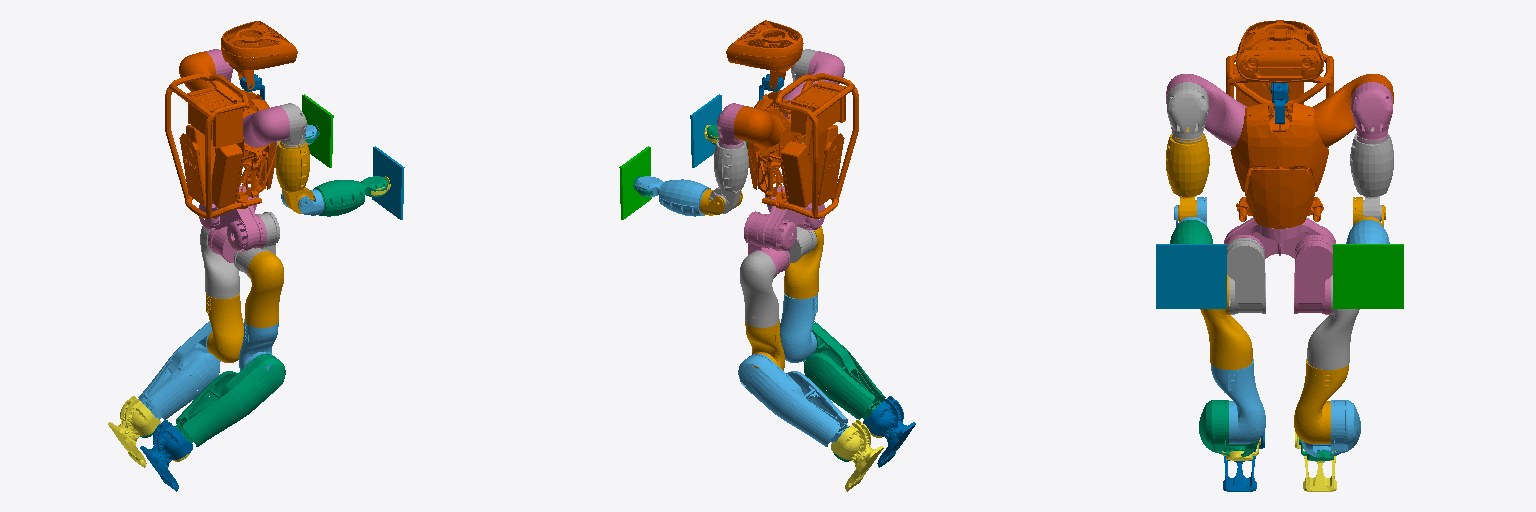
--- What the picture shows (computed from the rendered views, not written in the file) ---
3 views of the same robot in one strip: view 1: azimuth 30°, elevation 25°; view 2: azimuth 150°, elevation 25°; view 3: azimuth 270°, elevation 25° (orthographic).
Model DLR_TORO with 38 links and 37 joints (32 revolute, 3 prismatic, 2 fixed), rooted at ground, posed all joints at 0 but 4 set to mid-range because 0 is outside their limits (j_rl_knee = 1.02, j_ll_knee = 1.02, j_ra_elbow = 1.54, j_la_elbow = 1.54).
Visible links, largest first — view 1: trunk, RL_KOSY_L56, LL_KOSY_L56, neck_link2, RL_KOSY_L23, LL_KOSY_L4, hip_base, ra_link3, ra_link5, RL_foot, LL_foot, LL_KOSY_L23 (+8 smaller); view 2: trunk, LL_KOSY_L56, RL_KOSY_L56, neck_link2, LL_KOSY_L23, RL_KOSY_L4, hip_base, la_link3, la_link5, LL_foot, RL_foot, RL_KOSY_L23 (+8 smaller); view 3: trunk, neck_link2, ra_end_effector, la_end_effector, RL_KOSY_L1, LL_KOSY_L1, RL_KOSY_L4, LL_KOSY_L4, la_link3, ra_link3, RL_KOSY_L23, LL_KOSY_L23 (+12 smaller).
Link boxes in pixels (bbox=[...]): trunk: bbox=[165, 73, 276, 218]; RL_KOSY_L56: bbox=[174, 354, 285, 446]; LL_KOSY_L56: bbox=[138, 321, 220, 419]; neck_link2: bbox=[221, 21, 297, 89]; RL_KOSY_L23: bbox=[245, 251, 283, 327]; LL_KOSY_L4: bbox=[206, 293, 243, 362]; hip_base: bbox=[199, 186, 266, 251]; ra_link3: bbox=[275, 141, 314, 213]; ra_link5: bbox=[313, 176, 387, 216]; RL_foot: bbox=[140, 419, 192, 491]; LL_foot: bbox=[108, 396, 160, 467]; LL_KOSY_L23: bbox=[200, 226, 239, 298]; trunk: bbox=[747, 73, 858, 218]; LL_KOSY_L56: bbox=[738, 354, 849, 446]; RL_KOSY_L56: bbox=[803, 321, 885, 419]; neck_link2: bbox=[726, 20, 803, 89]; LL_KOSY_L23: bbox=[740, 251, 778, 327]; RL_KOSY_L4: bbox=[780, 293, 817, 362]; hip_base: bbox=[757, 186, 824, 250]; la_link3: bbox=[709, 141, 748, 213]; la_link5: bbox=[636, 176, 710, 216]; LL_foot: bbox=[831, 419, 883, 491]; RL_foot: bbox=[863, 396, 915, 467]; RL_KOSY_L23: bbox=[784, 226, 823, 298]; trunk: bbox=[1226, 53, 1333, 228]; neck_link2: bbox=[1236, 20, 1323, 92]; ra_end_effector: bbox=[1156, 244, 1226, 308]; la_end_effector: bbox=[1333, 244, 1403, 308]; RL_KOSY_L1: bbox=[1227, 238, 1265, 314]; LL_KOSY_L1: bbox=[1294, 238, 1332, 314]; RL_KOSY_L4: bbox=[1211, 359, 1265, 443]; LL_KOSY_L4: bbox=[1294, 359, 1348, 443]; la_link3: bbox=[1350, 128, 1393, 221]; ra_link3: bbox=[1166, 128, 1209, 221]; RL_KOSY_L23: bbox=[1200, 275, 1252, 369]; LL_KOSY_L23: bbox=[1307, 275, 1359, 369].
Size in the robot's own frame: 0.9072 by 0.6951 by 1.61 metres.
30 mesh visuals loaded from 23 distinct referenced files (23 OBJ).

URDF robot description (DLR_TORO):
<?xml version="1.0"?>
<robot name="DLR_TORO">

    <link name="ground">
    <inertial>
        <origin xyz="0 0 0" rpy="0 0 0" />
        <mass value="1e-9" />
        <inertia ixx="1e-9" iyy="1e-9" izz="1e-9" ixy="0" ixz="0" iyz="0" />
    </inertial>
    </link>
    
<!-- !!!!!!!!!!!!!!!!!!!!!!!!!!!!!!!!!!!!!!!!!!!!! -->
<!-- !!!!!!!!!!!!!!!!!!!!!!!!!!!!!!!!!!!!!!!!!!!!! -->
<!-- !!!!!!!!!!!!!!!!!!!!!!!!!!!!!!!!!!!!!!!!!!!!! -->
<!-- !!!!!!!!!!!!!!!!!!!!!!!!!!!!!!!!!!!!!!!!!!!!! -->
<!-- !!!!!!!!!!!!!!!!!!!!!!!!!!!!!!!!!!!!!!!!!!!!! -->
<!-- !!!!!! virtual links plus hip !!!!!!!!!!!!!!! -->
<!-- !!!!!!!!!!!!!!!!!!!!!!!!!!!!!!!!!!!!!!!!!!!!! -->
<!-- !!!!!!!!!!!!!!!!!!!!!!!!!!!!!!!!!!!!!!!!!!!!! -->
<!-- !!!!!!!!!!!!!!!!!!!!!!!!!!!!!!!!!!!!!!!!!!!!! -->
<!-- !!!!!!!!!!!!!!!!!!!!!!!!!!!!!!!!!!!!!!!!!!!!! -->
<!-- !!!!!!!!!!!!!!!!!!!!!!!!!!!!!!!!!!!!!!!!!!!!! -->

    <link name="floating_virtual1">
        <inertial>
            <origin xyz="0 0 0" rpy="0 0 0" />
            <mass value="1e-9" />
            <inertia ixx="0" iyy="0" izz="0" ixy="0" ixz="0" iyz="0" />
        </inertial>
    </link>
    <link name="floating_virtual2">
        <inertial>
            <origin xyz="0 0 0" rpy="0 0 0" />
            <mass value="1e-9" />
            <inertia ixx="0" iyy="0" izz="0" ixy="0" ixz="0" iyz="0" />
        </inertial>
    </link>
    <link name="floating_virtual3">
        <inertial>
            <origin xyz="0 0 0" rpy="0 0 0" />
            <mass value="1e-9" />
            <inertia ixx="0" iyy="0" izz="0" ixy="0" ixz="0" iyz="0" />
        </inertial>
    </link>
    <link name="floating_virtual4">
        <inertial>
            <origin xyz="0 0 0" rpy="0 0 0" />
            <mass value="1e-9" />
            <inertia ixx="0" iyy="0" izz="0" ixy="0" ixz="0" iyz="0" />
        </inertial>
    </link>
    <link name="floating_virtual5">
        <inertial>
            <origin xyz="0 0 0" rpy="0 0 0" />
            <mass value="1e-9" />
            <inertia ixx="0" iyy="0" izz="0" ixy="0" ixz="0" iyz="0" />
        </inertial>
    </link>



    <link name="hip_base">
        <inertial>
			<origin xyz="-0.0253800000 -0.0003500000 -0.1077200000" rpy="0 0 0" />
			<mass value="5.6174600000" />
			<inertia  ixx="0.0566741600" iyy="0.0141009900" izz="0.0519184600" ixy="-0.0000604001" ixz="-0.0010933370" iyz="-0.0000343105" />
		</inertial>
        <visual>
            <geometry>
                <mesh filename="../../../model/toro/meshes/obj/upper_hip.stl.obj"/>
            </geometry>
        </visual>
    </link>


    <joint name="floating_base_p1" type="prismatic">
        <parent link="ground"/>
        <child link="floating_virtual1"/>
        <!-- <origin xyz="0.000000 0.000000 1.089000" rpy="0.000000 0.000000 0.000000" /> -->
        <origin xyz="0.000000 0.000000 2.089000" rpy="0.000000 0.000000 0.000000" />
        <axis xyz="1 0 0"/>
        <calibration rising="0.0" />
        <limit lower="-500.00" upper="500.00" effort="4000" velocity="1000" />
    </joint>
    <joint name="floating_base_p2" type="prismatic">
        <parent link="floating_virtual1"/>
        <child link="floating_virtual2"/>
        <origin xyz="0.000000 0.000000 0.00000" rpy="0.000000 0.000000 0.000000" />
        <axis xyz="0 1 0"/>
        <calibration rising="0.0" />
        <limit lower="-500.00" upper="500.00" effort="4000" velocity="1000" />
    </joint>
    <joint name="floating_base_p3" type="prismatic">
        <parent link="floating_virtual2"/>
        <child link="floating_virtual3"/>
        <origin xyz="0.000000 0.000000 0.00000" rpy="0.000000 0.000000 0.000000" />
        <axis xyz="0 0 1"/>
        <calibration rising="0" />
        <limit lower="-500.00" upper="500.00" effort="4000" velocity="1000" />
    </joint>
    <joint name="floating_base_r1" type="revolute">
        <parent link="floating_virtual3"/>
        <child link="floating_virtual4"/>
        <origin xyz="0.000000 0.000000 0.00000" rpy="0.000000 0.000000 0.000000" />
        <axis xyz="1 0 0"/>
        <calibration falling="0.0" />
        <limit lower="-500.00" upper="500.00" effort="4000" velocity="1000" />
    </joint>
    <joint name="floating_base_r2" type="revolute">
        <parent link="floating_virtual4"/>
        <child link="floating_virtual5"/>
        <origin xyz="0.000000 0.000000 0.00000" rpy="0.000000 0.000000 0.000000" />
        <axis xyz="0 0 1"/>
        <calibration falling="0.0" />
        <limit lower="-500.00" upper="500.00" effort="4000" velocity="1000" />
    </joint>
    <joint name="floating_base_r3" type="revolute">
        <parent link="floating_virtual5"/>
        <child link="hip_base"/>
        <origin xyz="0.000000 0.000000 0.00000" rpy="0.000000 0.000000 0.000000" />
        <axis xyz="0 1 0"/>
        <calibration falling="0.0" />
        <limit lower="-500.00" upper="500.00" effort="4000" velocity="1000" />
    </joint>


<!-- !!!!!!!!!!!!!!!!!!!!!!!!!!!!!!!!!!!!!!!!!!!!! -->
<!-- !!!!!!!!!!!!!!!!!!!!!!!!!!!!!!!!!!!!!!!!!!!!! -->
<!-- !!!!!!!!!!!!!!!!!!!!!!!!!!!!!!!!!!!!!!!!!!!!! -->
<!-- !!!!!!!!!!!!!!!!!!!!!!!!!!!!!!!!!!!!!!!!!!!!! -->
<!-- !!!!!!!!!!!!!!!!!!!!!!!!!!!!!!!!!!!!!!!!!!!!! -->
<!-- !!!!!!!!!!!!!!  legs - right  !!!!!!!!!!!!!!! -->
<!-- !!!!!!!!!!!!!!!!!!!!!!!!!!!!!!!!!!!!!!!!!!!!! -->
<!-- !!!!!!!!!!!!!!!!!!!!!!!!!!!!!!!!!!!!!!!!!!!!! -->
<!-- !!!!!!!!!!!!!!!!!!!!!!!!!!!!!!!!!!!!!!!!!!!!! -->
<!-- !!!!!!!!!!!!!!!!!!!!!!!!!!!!!!!!!!!!!!!!!!!!! -->
<!-- !!!!!!!!!!!!!!!!!!!!!!!!!!!!!!!!!!!!!!!!!!!!! -->


    <link name="RL_KOSY_L1">
        <inertial>
            <origin xyz="0.0140200000 -0.0003900000 -0.0807700000" rpy="0 0 0" />
            <mass value="3.1576128000" />
            <inertia  ixx="0.0132241200" iyy="0.0128226400" izz="0.0055660800" ixy="-0.0002500743" ixz="-0.0022333460" iyz="-0.0004034797" />
        </inertial>
        <visual>
            <origin xyz="0 0 0" rpy="0 0 0" />
            <geometry>
                <mesh filename="../../../model/toro/meshes/obj/right_lower_hip.stl.obj"/>
            </geometry>
        </visual>
    </link>

    <joint name="j_rl_frontal" type="revolute">
        <origin xyz="-0.0000000000 -0.1000000000 -0.1254789680" rpy="0 0 0" />
        <parent link="hip_base"/>
        <child link="RL_KOSY_L1"/> 
        <limit effort="176" velocity="1.9199" lower="-1.5708" upper="0.7854" />
        <calibration falling="-0.0" />
        <axis xyz="1 0 0"/>   
    </joint>

    <link name="RL_KOSY_L23">
        <inertial>
            <origin xyz="-0.0004400000 -0.0134800000 -0.1181100000" rpy="0 0 0" />
            <mass value="2.6274499000" />
            <inertia  ixx="0.0186767700" iyy="0.0182876800" izz="0.0041391160" ixy="0.0000149158" ixz="-0.0000216283" iyz="0.0029088950" />
        </inertial>
        <visual>
        <origin  xyz="0 0 0" rpy="-1.5708 0 3.1416 "/>
            <geometry>
                <mesh filename="../../../model/toro/meshes/obj/kuka-link2.stl.obj"/>
            </geometry>
        </visual>
    </link>

    <joint name="j_rl_sagittal" type="revolute">
        <origin xyz="-0.0000000000 -0.0350000000 -0.1200000000" rpy="0 0 0" />
        <parent link="RL_KOSY_L1"/>
        <child link="RL_KOSY_L23"/> 
        <limit lower="-2.0071" upper="1.5708" effort="100" velocity="2.7402" />
        <calibration falling="-35.0" />
        <axis xyz="0 1 0"/>    
    </joint>

    <link name="RL_KOSY_L4">
        <inertial>
            <origin xyz="-0.0001800000 0.0197800000 0.0475700000" rpy="0 0 0" />
            <mass value="2.6220074000" />
            <inertia  ixx="0.0181853400" iyy="0.0177957500" izz="0.0046458290" ixy="0.0000220452" ixz="-0.0000193978" iyz="0.0018474590" />
        </inertial>
        <visual>
            <origin  xyz="0 0 -0.399900088" rpy="3.1416 0 0"/>
            <geometry>
                <mesh filename="../../../model/toro/meshes/obj/kuka-link3.stl.obj"/>
            </geometry>
        </visual>
    </link>

    <joint name="j_rl_self_rotation" type="revolute">
        <parent link="RL_KOSY_L23"/>
        <child link="RL_KOSY_L4"/> 
        <limit lower="-2.0944" upper="2.0944" effort="100" velocity="2.7402" />
        <calibration falling="0.0" />
        <axis xyz="0 0 1"/>     
    </joint>


    <link name="RL_KOSY_L56">
        <inertial>
            <origin xyz="-0.0013700000 -0.0074900000 -0.1697900000" rpy="0 0 0" />
            <mass value="5.7433829000" />
            <inertia  ixx="0.0904821100" iyy="0.0891927700" izz="0.0139187300" ixy="0.0002627257" ixz="0.0006447136" iyz="0.0098359460" />
        </inertial>
        <visual>
            <geometry>
                <mesh filename="../../../model/toro/meshes/obj/right_calf.stl.obj"/>
            </geometry>
        </visual>
    </link>

    <joint name="j_rl_knee" type="revolute">
        <origin xyz="0.0000000000 0.0000000000 -0.3999000880" rpy="0 0 0" />
        <parent link="RL_KOSY_L4"/>
        <child link="RL_KOSY_L56"/> 
        <limit lower="0.2" upper="1.8326" effort="165" velocity="3.0718" />
        <calibration falling="45.0" />
         <axis xyz="0 1 0"/>
    </joint>

    <link name="RL_ankle">
        <inertial>
            <origin xyz="0.0142800000 0.0001000000 -0.0000600000" rpy="0 0 0" />
            <mass value="0.3906700000" />
            <inertia  ixx="0.0005022947" iyy="0.0004818338" izz="0.0007966313" ixy="-0.0000013421" ixz="0.0000010653" iyz="0.0000001977" />
        </inertial>
        <visual>
            <geometry>
                <mesh filename="../../../model/toro/meshes/obj/ankle.stl.obj"/>
            </geometry>
        </visual>
    </link>

    <joint name="j_rl_ankle_frontal" type="revolute">
        <origin xyz="-0.0000000000 0.0220500000 -0.4000000000" rpy="0 0 0" />
        <parent link="RL_KOSY_L56"/>
        <child link="RL_ankle"/> 
        <limit lower="-0.3403" upper="0.3403" effort="50" velocity="2.0944" />
        <calibration falling="0.0" />
        <axis xyz="1 0 0"/> 
    </joint>


    <link name="RL_foot">
         <tcp number="0"/>
        <inertial>
            <origin xyz="0.02 0.0 -0.045" rpy="0 0 0" />
            <mass value="1.4241951000" />
            <inertia  ixx="0.0039254437" iyy="0.0056384521" izz="0.0049198016" ixy="-0.0000052044" ixz="0.0014223826" iyz="0.0000040064" />
        </inertial>     
        <visual>
            <origin xyz="0.04 0 -0.08" />
            <geometry>
                <mesh filename="../../../model/toro/meshes/obj/foot.stl.obj"/>
            </geometry>
        </visual>
    </link>

    <joint name="j_rl_ankle_sagittal" type="revolute">
        <origin xyz="-0.0000000000 0.0000000000 -0.0200000" rpy="0 0 0" />
        <parent link="RL_ankle"/>
        <child link="RL_foot"/> 
        <limit lower="-0.7804" upper="0.7804" effort="165" velocity="3.0718" />
        <calibration falling="-20.0" />
        <axis xyz="0 1 0"/>
    </joint>

    <link name="RL_end_effector">
         <tcp number="0"/>
        <inertial>
            <origin xyz="0 0 0" rpy="0 0 0" />
            <mass value="0.001" />
            <inertia  ixx="0.001" iyy="0.001" izz="0.001" ixy="-0.0" ixz="0.0" iyz="0.0" />
        </inertial>     
<!--         <visual>
            <geometry>
                <box size="0.2 0.1 0.02" />
            </geometry>
            <material name="material_ee">
                <color rgba="0.0 0.8 0.0 1.0" />
            </material>
        </visual> -->
        <collision>
            <geometry>
                <box size="0.2 0.1 0.02" />
                <!-- <box size="0.3 0.15 0.02" /> -->
            </geometry>
        </collision>
    </link>

    <joint name="j_rfoot_fixed" type="fixed">
        <origin xyz="0.04 0 -0.08" rpy="0 0 0" />
        <parent link="RL_foot"/>
        <child link="RL_end_effector"/> 
    </joint>

<!-- !!!!!!!!!!!!!!!!!!!!!!!!!!!!!!!!!!!!!!!!!!!!! -->
<!-- !!!!!!!!!!!!!!!!!!!!!!!!!!!!!!!!!!!!!!!!!!!!! -->
<!-- !!!!!!!!!!!!!!!!!!!!!!!!!!!!!!!!!!!!!!!!!!!!! -->
<!-- !!!!!!!!!!!!!!!!!!!!!!!!!!!!!!!!!!!!!!!!!!!!! -->
<!-- !!!!!!!!!!!!!!!!!!!!!!!!!!!!!!!!!!!!!!!!!!!!! -->
<!-- !!!!!!!!!!!!!!  legs - left   !!!!!!!!!!!!!!! -->
<!-- !!!!!!!!!!!!!!!!!!!!!!!!!!!!!!!!!!!!!!!!!!!!! -->
<!-- !!!!!!!!!!!!!!!!!!!!!!!!!!!!!!!!!!!!!!!!!!!!! -->
<!-- !!!!!!!!!!!!!!!!!!!!!!!!!!!!!!!!!!!!!!!!!!!!! -->
<!-- !!!!!!!!!!!!!!!!!!!!!!!!!!!!!!!!!!!!!!!!!!!!! -->
<!-- !!!!!!!!!!!!!!!!!!!!!!!!!!!!!!!!!!!!!!!!!!!!! -->


    <link name="LL_KOSY_L1">
        <inertial>
            <origin xyz="0.0140200000 0.0004000000 -0.0803900000" rpy="0 0 0" />
            <mass value="3.1576128000" />
            <inertia  ixx="0.0131418500" iyy="0.0127404000" izz="0.0055660580" ixy="0.0002490634" ixz="-0.0022168610" iyz="0.0003874600" />
        </inertial>
        <visual>
            <geometry>
                <mesh filename="../../../model/toro/meshes/obj/left_lower_hip.stl.obj"/>
            </geometry>
        </visual>
      </link>

    <joint name="j_ll_frontal" type="revolute">
        <origin xyz="0.0000000000 0.1000000000 -0.1254789680" rpy="0 0 0" />
        <parent link="hip_base"/>
        <child link="LL_KOSY_L1"/> 
        <limit lower="-0.7804" upper="1.5708" effort="176" velocity="1.9199" />
        <calibration falling="0.0" />
        <axis xyz= " 1 0 0 "/>
    </joint>

    <link name="LL_KOSY_L23">
        <inertial>
            <origin xyz="0.0004400000 0.0134800000 -0.1181100000" rpy="0 0 0" />
            <mass value="2.6274499000" />
            <inertia  ixx="0.0186767700" iyy="0.0182876800" izz="0.0041391160" ixy="0.0000149158" ixz="0.0000216283" iyz="-0.0029088950" />
        </inertial>
         <visual>
            <origin xyz="0 0 0" rpy= "-1.5708 0 0"/>
            <geometry>
                <mesh filename="../../../model/toro/meshes/obj/kuka-link2.stl.obj"/>
            </geometry>
        </visual>
      </link>

    <joint name="j_ll_sagittal" type="revolute">
        <origin xyz="0.0000000000 0.0350000000 -0.1200000000" rpy="0 0 0" />
        <parent link="LL_KOSY_L1"/>
        <child link="LL_KOSY_L23"/> 
        <limit lower="-2.0071" upper="1.5708" effort="100" velocity="2.7402" />
        <calibration falling="-35.0" />
        <axis xyz="0 1 0"/>
    </joint>




    <link name="LL_KOSY_L4">
        <inertial>
            <origin xyz="0.0001800000 -0.0197800000 0.0475700000" rpy="0 0 0" />
            <mass value="2.6220074000" />
            <inertia  ixx="0.0181853400" iyy="0.0177957500" izz="0.0046458290" ixy="0.0000220452" ixz="0.0000193978" iyz="-0.0018474590" />
        </inertial>       
         <visual>
            <origin  xyz="0 0 -0.399900088" rpy="0 3.1416 0"/>
            <geometry>
                <mesh filename="../../../model/toro/meshes/obj/kuka-link3.stl.obj"/>
            </geometry>
        </visual>
      </link>

    <joint name="j_ll_self_rotation" type="revolute">
        <parent link="LL_KOSY_L23"/>
        <child link="LL_KOSY_L4"/> 
        <limit lower="-2.0944" upper="2.0944" effort="100" velocity="2.7402" />
        <calibration falling="0.0" />
        <axis xyz="0 0 1"/>
    </joint>




    <link name="LL_KOSY_L56">
        <inertial>
            <origin xyz="-0.0017200000 0.0075200000 -0.1697300000" rpy="0 0 0" />
            <mass value="5.7433829000" />
            <inertia  ixx="0.0904466300" iyy="0.0891587900" izz="0.0139048900" ixy="-0.0001614719" ixz="0.0007332664" iyz="-0.0098185250" />
        </inertial>
         <visual>
            <geometry>
                <mesh filename="../../../model/toro/meshes/obj/left_calf.stl.obj"/>
            </geometry>
        </visual>
    </link>

    <joint name="j_ll_knee" type="revolute">
        <origin xyz="0.0000000000 0.0000000000 -0.3999000880" rpy="0 0 0" />
        <parent link="LL_KOSY_L4"/>
        <child link="LL_KOSY_L56"/> 
        <limit lower="0.2" upper="1.8326" effort="165" velocity="3.0718" />
        <calibration falling="45.0" />
        <axis xyz="0 1 0"/>
    </joint>


    <link name="LL_ankle">
        <inertial>
            <origin xyz="0.0142800000 0.0001000000 -0.0000600000" rpy="0 0 0" />
            <mass value="0.3906700000" />
            <inertia  ixx="0.0005022947" iyy="0.0004818338" izz="0.0007966313" ixy="-0.0000013421" ixz="0.0000010653" iyz="0.0000001977" />
        </inertial>
         <visual>
            <geometry>
                <mesh filename="../../../model/toro/meshes/obj/ankle.stl.obj"/>
            </geometry>
        </visual>
    </link>

    <joint name="j_ll_ankle_frontal" type="revolute">
        <origin xyz="0.0000000000 -0.0220500000 -0.4000000000" rpy="0 0 0" />
        <parent link="LL_KOSY_L56"/>
        <child link="LL_ankle"/> 
        <limit lower="-0.3403" upper="0.3403" effort="50" velocity="2.0944" />
        <calibration falling="0.0" />
        <axis xyz="1 0 0"/>
    </joint>

    <link name="LL_foot">
         <tcp number="1"/>
        <tcp number="1"/> 
        <inertial>
            <origin xyz="0.02 0.0 -0.045" rpy="0 0 0" />
            <mass value="1.4241951000" />
            <inertia  ixx="0.0039235265" iyy="0.0056313673" izz="0.0049161089" ixy="0.0000049045" ixz="0.0014182543" iyz="-0.0000046132" />
        </inertial>
        <visual>
            <origin xyz="0.04 0 -0.08" />
            <geometry>
                <mesh filename="../../../model/toro/meshes/obj/foot.stl.obj"/>
            </geometry>
        </visual>
    </link>

    <joint name="j_ll_ankle_sagittal" type="revolute">
        <origin xyz="-0.0000000000 0.0000000000 -0.0200000" rpy="0 0 0" />
        <parent link="LL_ankle"/>
        <child link="LL_foot"/> 
        <limit lower="-0.7854" upper="0.7854" effort="165" velocity="3.0718" />
        <calibration falling="-20.0" />
        <axis xyz="0 1 0"/>
    </joint>

    <link name="LL_end_effector">
         <tcp number="0"/>
        <inertial>
            <origin xyz="0 0 0" rpy="0 0 0" />
            <mass value="0.001" />
            <inertia  ixx="0.001" iyy="0.001" izz="0.001" ixy="-0.0" ixz="0.0" iyz="0.0" />
        </inertial>     
<!--         <visual>
            <geometry>
                <box size="0.2 0.1 0.02" />
            </geometry>
            <material name="material_ee">
                <color rgba="0.0 0.8 0.0 1.0" />
            </material>
        </visual> -->
        <collision>
            <geometry>
                <box size="0.2 0.1 0.02" />
                <!-- <box size="0.3 0.15 0.02" /> -->
            </geometry>
        </collision>
    </link>

    <joint name="j_lfoot_fixed" type="fixed">
        <origin xyz="0.04 0 -0.08" rpy="0 0 0" />
        <parent link="LL_foot"/>
        <child link="LL_end_effector"/> 
    </joint>

<!-- !!!!!!!!!!!!!!!!!!!!!!!!!!!!!!!!!!!!!!!!!!!!! -->
<!-- !!!!!!!!!!!!!!!!!!!!!!!!!!!!!!!!!!!!!!!!!!!!! -->
<!-- !!!!!!!!!!!!!!!!!!!!!!!!!!!!!!!!!!!!!!!!!!!!! -->
<!-- !!!!!!!!!!!!!!!!!!!!!!!!!!!!!!!!!!!!!!!!!!!!! -->
<!-- !!!!!!!!!!!!!!!!!!!!!!!!!!!!!!!!!!!!!!!!!!!!! -->
<!-- !!!!!!!!!!!!!!!!    Trunk    !!!!!!!!!!!!!!!! -->
<!-- !!!!!!!!!!!!!!!!!!!!!!!!!!!!!!!!!!!!!!!!!!!!! -->
<!-- !!!!!!!!!!!!!!!!!!!!!!!!!!!!!!!!!!!!!!!!!!!!! -->
<!-- !!!!!!!!!!!!!!!!!!!!!!!!!!!!!!!!!!!!!!!!!!!!! -->
<!-- !!!!!!!!!!!!!!!!!!!!!!!!!!!!!!!!!!!!!!!!!!!!! -->
<!-- !!!!!!!!!!!!!!!!!!!!!!!!!!!!!!!!!!!!!!!!!!!!! -->


    <link name="trunk">
        <inertial>
            <origin xyz="-0.0772300000 -0.0064300000 0.1945200000" rpy="0 0 0" />
            <mass value="19.6443820000" />
            <inertia  ixx="0.4140931300" iyy="0.4412850500" izz="0.2319975000" ixy="-0.0090228103" ixz="0.0016661460" iyz="0.0148581080" />
        </inertial>
         <visual>
            <geometry>
                <mesh filename="../../../model/toro/meshes/obj/trunk.stl.obj"/>
            </geometry>
        </visual>
      </link>

    <joint name="j_waist" type="revolute">
        <parent link="hip_base"/>
        <child link="trunk"/> 
        <limit lower="-2.0944" upper="2.0944" effort="100" velocity="2.7402" />
        <calibration falling="0.0" />
        <axis xyz="0 0 1"/> 
    </joint>

      
<!-- !!!!!!!!!!!!!!!!!!!!!!!!!!!!!!!!!!!!!!!!!!!!! -->
<!-- !!!!!!!!!!!!!!!!!!!!!!!!!!!!!!!!!!!!!!!!!!!!! -->
<!-- !!!!!!!!!!!!!!!!!!!!!!!!!!!!!!!!!!!!!!!!!!!!! -->
<!-- !!!!!!!!!!!!!!!!!!!!!!!!!!!!!!!!!!!!!!!!!!!!! -->
<!-- !!!!!!!!!!!!!!!!!!!!!!!!!!!!!!!!!!!!!!!!!!!!! -->
<!-- !!!!!!!!!!!!!   arms - right   !!!!!!!!!!!!!! -->
<!-- !!!!!!!!!!!!!!!!!!!!!!!!!!!!!!!!!!!!!!!!!!!!! -->
<!-- !!!!!!!!!!!!!!!!!!!!!!!!!!!!!!!!!!!!!!!!!!!!! -->
<!-- !!!!!!!!!!!!!!!!!!!!!!!!!!!!!!!!!!!!!!!!!!!!! -->
<!-- !!!!!!!!!!!!!!!!!!!!!!!!!!!!!!!!!!!!!!!!!!!!! -->
<!-- !!!!!!!!!!!!!!!!!!!!!!!!!!!!!!!!!!!!!!!!!!!!! -->

    <link name="ra_link1">
        <inertial>
            <origin xyz="-0.0183100000 -0.0004571088 -0.0550082644" rpy="0 0 0"/>
            <mass value="2.6220074000" />
            <inertia ixx="0.0163447800" iyy="0.0168339022" izz="0.0042262898" ixy="-0.0000450521" ixz="0.0016914376" iyz="0.0000513506" />
        </inertial>
        <visual>
            <origin xyz="0.0000000000 0.0000000000 0.0000000000" rpy="0.0000031811 -0.0000024488  1.5707981634" />
            <geometry>
                <mesh filename="../../../model/toro/meshes/obj/kuka-link1.stl.obj"/>
            </geometry>
        </visual>
      </link>

    <joint name="j_ra_sagittal" type="revolute">
        <origin xyz="0.0000000000 -0.2590563550  0.3552250220" rpy="1.0471975512 0.0000000000 0.0000000000" />
        <parent link="trunk"/>
        <child link="ra_link1"/> 
        <limit lower="-2.0944" upper="2.0944" effort="100" velocity="2.7402" />
        <calibration falling="15.0" />
        <axis xyz="0 0 1"/>
    </joint>



    <link name="ra_link2">
        <inertial>
            <origin xyz="-0.0171459632  0.0157700000 -0.0099223205" rpy="0 0 0"/>
            <mass value="1.0979371000" />
            <inertia ixx="0.0019485690" iyy="0.0032123630" izz="0.0024298790" ixy="-0.0002409816" ixz="-0.0004213554" iyz="-0.0001401085" />
        </inertial>
         <visual>
            <origin xyz="0.0000000000 0.0000000000 0.0000000000" rpy="-1.0471975512  0.0000000000 -1.5707963268" />
            <geometry>
                <mesh filename="../../../model/toro/meshes/obj/va_right_shoulder_front.stl.obj"/>
            </geometry>
        </visual>
      </link>

    <joint name="j_ra_frontal" type="revolute">
        <origin xyz="0.0539500000 0.0000000000 0.0000000000" rpy="0.0000000000 0.0000000000 1.5707963268" />
        <parent link="ra_link1"/>
        <child link="ra_link2"/> 
        <limit lower="-0.2618" upper="3.1416" effort="100" velocity="2.7402" />
        <calibration falling="15.0" />
        <axis xyz="0 1 0"/>
    </joint>

    <link name="ra_link3">
        <inertial>
            <origin xyz="-0.0024100000 -0.0101800000  0.2010000000" rpy="0 0 0"/>
            <mass value="2.3628586000" />
            <inertia ixx="0.0188188000" iyy="0.0185273500" izz="0.0035042020" ixy="-0.0001558288" ixz="0.0007985828" iyz="0.0020103610" />
        </inertial>
        <visual>
            <origin xyz="0.0000000000 0.0000000000 0.0000000000" rpy="-3.1415926536  0.0000000000 -1.5707963268" />
            <geometry>
                <mesh filename="../../../model/toro/meshes/obj/va_right_upper_arm.stl.obj"/>
            </geometry>
        </visual>
      </link>

    <joint name="j_ra_self_rotation" type="revolute">
        <origin xyz="0.0000000000 0.0000000000 0.0000000000" rpy="-3.1415926536 -1.0471975512 -3.1415926536" />
        <parent link="ra_link2"/>
        <child link="ra_link3"/> 
        <limit lower="-1.8326" upper="1.8326" effort="40" velocity="2.0944" />
        <calibration falling="-15.0" />
        <axis xyz="0 0 1"/>
    </joint>


    <link name="ra_link4">
        <inertial>
            <origin xyz="-0.0184900000  0.0167000000  0.0292700000" rpy="0 0 0"/>
            <mass value="0.7247867400" />
            <inertia ixx="0.0013664280" iyy="0.0013830570" izz="0.0010473530" ixy="-0.0001050223" ixz="-0.0001630621" iyz="-0.0003003930" />
        </inertial>
         <visual>
            <origin xyz="0.0000000000 0.0000000000 0.0000000000" rpy="-3.1415926536  0.0000000000 -1.5707963268" />
            <geometry>
                <mesh filename="../../../model/toro/meshes/obj/va_right_lower_elbow.stl.obj"/>
            </geometry>
        </visual>
    </link>

    <joint name="j_ra_elbow" type="revolute">
        <origin xyz="-0.0000000000 -0.0300000000  0.3129000000" rpy="0.0000000000 0.0000000000 0.0000000000" />
        <parent link="ra_link3"/>
        <child link="ra_link4"/> 
        <limit lower="0.5" upper="2.5831" effort="40" velocity="2.0944" />
        <calibration falling="70.0" />
        <axis xyz="1 0 0"/>
    </joint>



    <link name="ra_link5">
        <inertial>
            <origin xyz="0.0005200000  0.0004000000 -0.1168400000" rpy="0 0 0"/>
            <mass value="2.2114157000" />
            <inertia ixx="0.0179711600" iyy="0.0183094100" izz="0.0029926190" ixy="-0.0000199261" ixz="0.0000759583" iyz="0.0006364064" />
        </inertial>
         <visual>
            <origin xyz="0.0000000000 0.0000000000 0.0000000000" rpy="3.1415926536 -0.0000000000  1.5707889804" />
            <geometry>
                <mesh filename="../../../model/toro/meshes/obj/va_right_lower_arm.stl.obj"/>
            </geometry>
        </visual>
        <visual>
            <origin xyz="0.0000000000  0.001000000 -0.06900000" rpy="-3.1415926536  0.0000000000 -1.5707963268" />
            <geometry>
                <mesh filename="../../../model/toro/meshes/obj/wrist_cap.stl.obj"/>
            </geometry>
        </visual>
    </link>

    <joint name="j_ra_wrist_self_rotation" type="revolute">
        <origin xyz="-0.0115000000  0.0300000000  0.3059000000" rpy="0.0000000000 0.0000000000 0.0000000000" />
        <parent link="ra_link4"/>
        <child link="ra_link5"/> 
        <limit lower="-2.5307" upper="2.0595" effort="40" velocity="2.0944" />
        <calibration falling="0.0" />
        <axis xyz="0 0 1"/>
    </joint>

    <link name="ra_link6">
        <tcp number="2"/>        
        <inertial>
            <origin xyz="0.0000334374 -0.0022440200 -0.0512098000" rpy="0 0 0"/>
            <mass value="0.2863747200" />
            <inertia ixx="0.0021686577" iyy="0.0032369857" izz="0.0015915745" ixy="-0.0000000609" ixz="-0.0000001700" iyz="-0.0000011072" />
        </inertial>     
         <visual>
            <origin xyz="0.0000000000  0.0000000000 -0.00000000" rpy="-3.1415926536  0.0000000000 -1.5707963268" />
            <geometry>
                <mesh filename="../../../model/toro/meshes/obj/wrist.stl.obj"/>
            </geometry>
        </visual>
    </link>

    <joint name="j_ra_wrist_frontal" type="revolute">
        <origin xyz="-0.0000000000 -0.0140000000  0.00000000" rpy="0.0000000000 0.0000000000 0.0000000000" />
        <parent link="ra_link5"/>
        <child link="ra_link6"/> 
        <limit lower="-1.8326" upper="1.8326" effort="35" velocity="2.0944" />
        <calibration falling="0.0" />
        <axis xyz="0 1 0"/>
    </joint>

    <link name="ra_end_effector">
        <inertial>
            <origin xyz="0 0 0" rpy="0 0 0"/>
            <mass value="0.1" />
            <inertia ixx="0.001" iyy="0.001" izz="0.001" ixy="-0.0" ixz="-0.0" iyz="-0.0" />
        </inertial>   
           <visual>
            <origin xyz="0 0 0" rpy="0 0 0"/>
            <geometry>
                <box size="0.2 0.2 0.01"/>
            </geometry>
            <material name="material_ee">
                <color rgba="0.0 0.6 0.8 1.0" />
            </material>
        </visual>
        <collision>
            <origin xyz="0 0 0" rpy="0 0 0"/>
            <geometry>
                <box size="0.2 0.2 0.01"/>
                <!-- <box size="0.2 0.2 0.01"/> -->
            </geometry>
        </collision>
    </link>

    <!-- <joint name="j_rhand_fixed" type="fixed">
            <origin xyz="0 0 0.056" rpy="-3.1415926536  0.0000000000 -1.5707963268" />
        <parent link="ra_link6"/>
        <child link="ra_end_effector"/> 
    </joint> -->

    <joint name="j_rhand_revolute" type="revolute">
        <origin xyz="0 0 0.056" rpy="-3.1415926536  0.0000000000 -1.5707963268" />
        <parent link="ra_link6"/>
        <child link="ra_end_effector"/> 
        <limit lower="-1.8326" upper="1.8326" effort="35" velocity="2.0944" />
        <calibration falling="0.0" />
        <axis xyz="0 0 1"/>
    </joint>

<!-- !!!!!!!!!!!!!!!!!!!!!!!!!!!!!!!!!!!!!!!!!!!!! -->
<!-- !!!!!!!!!!!!!!!!!!!!!!!!!!!!!!!!!!!!!!!!!!!!! -->
<!-- !!!!!!!!!!!!!!!!!!!!!!!!!!!!!!!!!!!!!!!!!!!!! -->
<!-- !!!!!!!!!!!!!!!!!!!!!!!!!!!!!!!!!!!!!!!!!!!!! -->
<!-- !!!!!!!!!!!!!!!!!!!!!!!!!!!!!!!!!!!!!!!!!!!!! -->
<!-- !!!!!!!!!!!!!   arms - left   !!!!!!!!!!!!!!! -->
<!-- !!!!!!!!!!!!!!!!!!!!!!!!!!!!!!!!!!!!!!!!!!!!! -->
<!-- !!!!!!!!!!!!!!!!!!!!!!!!!!!!!!!!!!!!!!!!!!!!! -->
<!-- !!!!!!!!!!!!!!!!!!!!!!!!!!!!!!!!!!!!!!!!!!!!! -->
<!-- !!!!!!!!!!!!!!!!!!!!!!!!!!!!!!!!!!!!!!!!!!!!! -->
<!-- !!!!!!!!!!!!!!!!!!!!!!!!!!!!!!!!!!!!!!!!!!!!! -->


      <link name="la_link1">
        <inertial>
            <origin xyz="-0.0183100000  0.0004570513  0.0550116361" rpy="0 0 0"/>
            <mass value="2.6220074000" />
            <inertia ixx="0.0163439400" iyy="0.0168330402" izz="0.0042263208" ixy="0.0000450567" ixz="-0.0016915732" iyz="0.0000513268" />
        </inertial>
        <visual>
            <origin xyz="0.0000000000 0.0000000000 0.0000000000" rpy="3.1415894725 -0.0000024488 -1.5707981634" />
            <geometry>
                <mesh filename="../../../model/toro/meshes/obj/kuka-link1.stl.obj"/>
            </geometry>
        </visual>
      </link>

    <joint name="j_la_sagittal" type="revolute">
        <origin xyz="0.0000000000 0.2590563550 0.3552250220" rpy="2.0943951024 0.0000000000 0.0000000000" />
        <parent link="trunk"/>
        <child link="la_link1"/> 
        <limit lower="-2.0944" upper="2.0944" effort="100" velocity="2.7402" />
        <calibration falling="15.0" />
        <axis xyz="0 0 1"/>
    </joint>



    <link name="la_link2">
        <inertial>
            <origin xyz="-0.0157700000 -0.0198100000 -0.0000200000" rpy="0 0 0"/>
            <mass value="1.0979371000" />
            <inertia ixx="0.0032123630" iyy="0.0017039920" izz="0.0026744560" ixy="0.0002787504" ixz="0.0000008467" iyz="-0.0000022644" />
        </inertial>
         <visual>
            <origin xyz="0.0000000000 0.0000000000 0.0000000000" rpy="-1.5707963268  0.0000000000  0.0000000000" />
            <geometry>
                <mesh filename="../../../model/toro/meshes/obj/va_left_shoulder_front.stl.obj"/>
            </geometry>
        </visual>
      </link>

    <joint name="j_la_frontal" type="revolute">
        <origin xyz="0.0539500000 0.0000000000 0.0000000000" rpy="-0.5235987756  0.0000000000  0.0000000000" />
        <parent link="la_link1"/>
        <child link="la_link2"/> 
        <limit lower="-0.2618" upper="3.1416" effort="100" velocity="2.7402" />
        <calibration falling="15.0" />
        <axis xyz="1 0 0"/>
    </joint>



      <link name="la_link3">
        <inertial>
            <origin xyz="0.0101800000 -0.2020200000  0.0021900000" rpy="0 0 0"/>
            <mass value="2.3628586000" />
            <inertia ixx="0.0185311900" iyy="0.0035057930" izz="0.0188158500" ixy="0.0020059250" ixz="-0.0001209208" iyz="0.0007827924" />
        </inertial>
         <visual>
            <origin xyz="0.0000000000 0.0000000000 0.0000000000" rpy="-1.5707963268  0.0000000000  0.0000000000" />
            <geometry>
                <mesh filename="../../../model/toro/meshes/obj/va_left_upper_arm.stl.obj"/>
            </geometry>
        </visual>
      </link>

    <joint name="j_la_self_rotation" type="revolute">
        <parent link="la_link2"/>
        <child link="la_link3"/> 
        <limit lower="-1.8326" upper="1.8326" effort="40" velocity="2.0944" />
        <calibration falling="-15.0" />
         <axis xyz="0 1 0"/>
    </joint>

      <link name="la_link4">
        <inertial>
            <origin xyz="-0.0168700000 -0.0291600000  0.0184900000" rpy="0 0 0"/>
            <mass value="0.7247867400" />
            <inertia ixx="0.0013880760" iyy="0.0010478510" izz="0.0013720460" ixy="-0.0003019505" ixz="-0.0001053814" iyz="-0.0001648003" />
        </inertial>
         <visual>
            <origin xyz="0.0000000000 0.0000000000 0.0000000000" rpy="-1.5707963268  0.0000000000  0.0000000000" />
            <geometry>
                <mesh filename="../../../model/toro/meshes/obj/va_left_lower_elbow.stl.obj"/>
            </geometry>
        </visual>
      </link>

    <joint name="j_la_elbow" type="revolute">
        <origin xyz="0.0300000000 -0.3128000000 -0.0000000000" rpy="0.0000000000 0.0000000000 0.0000000000" />
        <parent link="la_link3"/>
        <child link="la_link4"/> 
        <limit lower="0.5" upper="2.5831" effort="40" velocity="2.0944" />
        <calibration falling="70.0" />
         <axis xyz="0 0 1"/>
    </joint>




    <link name="la_link5">
        <inertial>
            <origin xyz="-0.0004000000  0.1168400000  0.0005200000" rpy="0 0 0"/>
            <mass value="2.2114157000" />
            <inertia ixx="0.0183094100" iyy="0.0029926190" izz="0.0179711600" ixy="0.0006364064" ixz="0.0000199261" iyz="-0.0000759583" />
        </inertial>
         <visual>
            <origin xyz="0.0000000000 0.0000000000 0.0000000000" rpy="1.5707963268 -0.0000073464 -3.1415926536" />
            <geometry>
                <mesh filename="../../../model/toro/meshes/obj/va_left_lower_arm.stl.obj"/>
            </geometry>
        </visual>
        <visual>
            <origin xyz="-0.001000000 0.069000000 0.0000000000" rpy="-1.5707963268  0.0000000000  0.0000000000" />
            <geometry>
                <mesh filename="../../../model/toro/meshes/obj/wrist_cap.stl.obj"/>
            </geometry>
        </visual>
      </link>

    <joint name="j_la_wrist_self_rotation" type="revolute">
        <origin xyz="-0.0300000000 -0.3058000000  0.0115000000" rpy="0.0000000000 0.0000000000 0.0000000000" />
        <parent link="la_link4"/>
        <child link="la_link5"/> 
        <limit lower="-2.5307" upper="2.0595" effort="40" velocity="2.0944" />
        <calibration falling="0.0" />
        <axis xyz="0 1 0"/>
    </joint>




      <link name="la_link6">
        <tcp number="3"/>
        <inertial>
            <origin xyz="0.0022440200  0.0512098000 -0.0000334374" rpy="0 0 0"/>
            <mass value="0.2863747200" />
            <inertia ixx="0.0032369857" iyy="0.0015915745" izz="0.0021686577" ixy="-0.0000011072" ixz="0.0000000609" iyz="0.0000001700" />
        </inertial> 
        <visual>
            <origin xyz="0.0000000000 0.0000000000 0.0000000000" rpy="-1.5707963268  0.0000000000  0.0000000000" />
            <geometry>
                <mesh filename="../../../model/toro/meshes/obj/wrist.stl.obj"/>
            </geometry>
        </visual>
    </link>

    <joint name="j_la_wrist_frontal" type="revolute">
        <origin xyz="0.0140000000 -0.0000000000 -0.0000000000" rpy="0.0000000000 0.0000000000 0.0000000000" />
        <parent link="la_link5"/>
        <child link="la_link6"/> 
        <limit lower="-1.8326" upper="1.8326" effort="40" velocity="2.0944" />
        <calibration falling="0.0" />
        <axis xyz="1 0 0"/>
    </joint>

    <link name="la_end_effector">
        <inertial>
            <origin xyz="0 0 0" rpy="0 0 0"/>
            <mass value="0.1" />
            <inertia ixx="0.001" iyy="0.001" izz="0.001" ixy="-0.0" ixz="-0.0" iyz="-0.0" />
        </inertial>   
           <visual>
            <origin xyz="0 0 0" rpy="0 0 0"/>
            <geometry>
                <box size="0.2 0.2 0.01"/>
            </geometry>
            <material name="material_ee">
                <color rgba="0.0 0.8 0.0 1.0" />
            </material>
        </visual>
        <collision>
            <origin xyz="0 0 0" rpy="0 0 0"/>
            <geometry>
                <box size="0.2 0.2 0.01"/>
                <!-- <box size="0.2 0.2 0.01"/> -->
            </geometry>
        </collision>
    </link>

    <!-- <joint name="j_lhand_fixed" type="fixed">
            <origin xyz="0 -0.056 0" rpy="-1.5707963268  0.0000000000 0.0000000000" />
        <parent link="la_link6"/>
        <child link="la_end_effector"/> 
    </joint> -->

    <joint name="j_lhand_revolute" type="revolute">
        <origin xyz="0 -0.056 0" rpy="-1.5707963268  0.0000000000 0.0000000000" />
        <parent link="la_link6"/>
        <child link="la_end_effector"/> 
        <limit lower="-1.8326" upper="1.8326" effort="35" velocity="2.0944" />
        <calibration falling="0.0" />
        <axis xyz="0 0 1"/>
    </joint>
      
<!-- !!!!!!!!!!!!!!!!!!!!!!!!!!!!!!!!!!!!!!!!!!!!! -->
<!-- !!!!!!!!!!!!!!!!!!!!!!!!!!!!!!!!!!!!!!!!!!!!! -->
<!-- !!!!!!!!!!!!!!!!!!!!!!!!!!!!!!!!!!!!!!!!!!!!! -->
<!-- !!!!!!!!!!!!!!!!!!!!!!!!!!!!!!!!!!!!!!!!!!!!! -->
<!-- !!!!!!!!!!!!!!!!!!!!!!!!!!!!!!!!!!!!!!!!!!!!! -->
<!-- !!!!!!!!!!!!!!!!    head    !!!!!!!!!!!!!!!!! -->
<!-- !!!!!!!!!!!!!!!!!!!!!!!!!!!!!!!!!!!!!!!!!!!!! -->
<!-- !!!!!!!!!!!!!!!!!!!!!!!!!!!!!!!!!!!!!!!!!!!!! -->
<!-- !!!!!!!!!!!!!!!!!!!!!!!!!!!!!!!!!!!!!!!!!!!!! -->
<!-- !!!!!!!!!!!!!!!!!!!!!!!!!!!!!!!!!!!!!!!!!!!!! -->
<!-- !!!!!!!!!!!!!!!!!!!!!!!!!!!!!!!!!!!!!!!!!!!!! -->
<!-- !!!!!!!!!!!!!!!!!!!!!!!!!!!!!!!!!!!!!!!!!!!!! -->

    <link name="neck_link1">
        <inertial>
            <origin xyz="-0.0129300000 -0.0003400000 0.0721200000" rpy="0 0 0" />
            <mass value="0.2300000000" />
            <inertia  ixx="0.0002923376" iyy="0.0003986288" izz="0.0002180134" ixy="-0.0000038209" ixz="0.0001039658" iyz="0.0000013502" />
        </inertial>
         <visual>
            <origin  xyz="0 0 -0.037"/>
            <geometry>
                <mesh filename="../../../model/toro/meshes/obj/neck.stl.obj"/>
            </geometry>
        </visual>
    </link>

    <joint name="j_neck_self_rotation" type="revolute">
        <origin xyz="0.0548813000 0.0000000000 0.3505590000" rpy="0 0 0" />
        <parent link="trunk"/>
        <child link="neck_link1"/> 
        <limit lower="-1.5708" upper="1.5708" effort="8.4" velocity="4.7124" /> 
        <calibration falling="0.0" />
        <axis xyz="0 0 1"/>
    </joint>


    <link name="neck_link2">
        <tcp number="4"/>
         <inertial>
            <origin xyz="0.00 0.0 0.08" rpy="0 0 0" />
            <mass value="1.4522900000" />
            <inertia  ixx="0.0048135662" iyy="0.0059177034" izz="0.0067590509" ixy="-0.0000203783" ixz="-0.0006221121" iyz="0.0000996016" />
        </inertial>
         <visual>
            <origin  xyz="0.0 0 0.0"/>
            <geometry>
                <mesh filename="../../../model/toro/meshes/obj/head.stl.obj"/>
            </geometry>
        </visual>
    </link>

    <joint name="j_neck_sagittal" type="revolute">
        <origin xyz="-0.035 0 0.05"/>
        <parent link="neck_link1"/>
        <child link="neck_link2"/> 
        <limit lower="-1.5236" upper="1.5708" effort="8.4" velocity="4.7124" /> 
        <calibration falling="0.0" />
        <axis xyz="0 1 0"/>
    </joint>


</robot>
